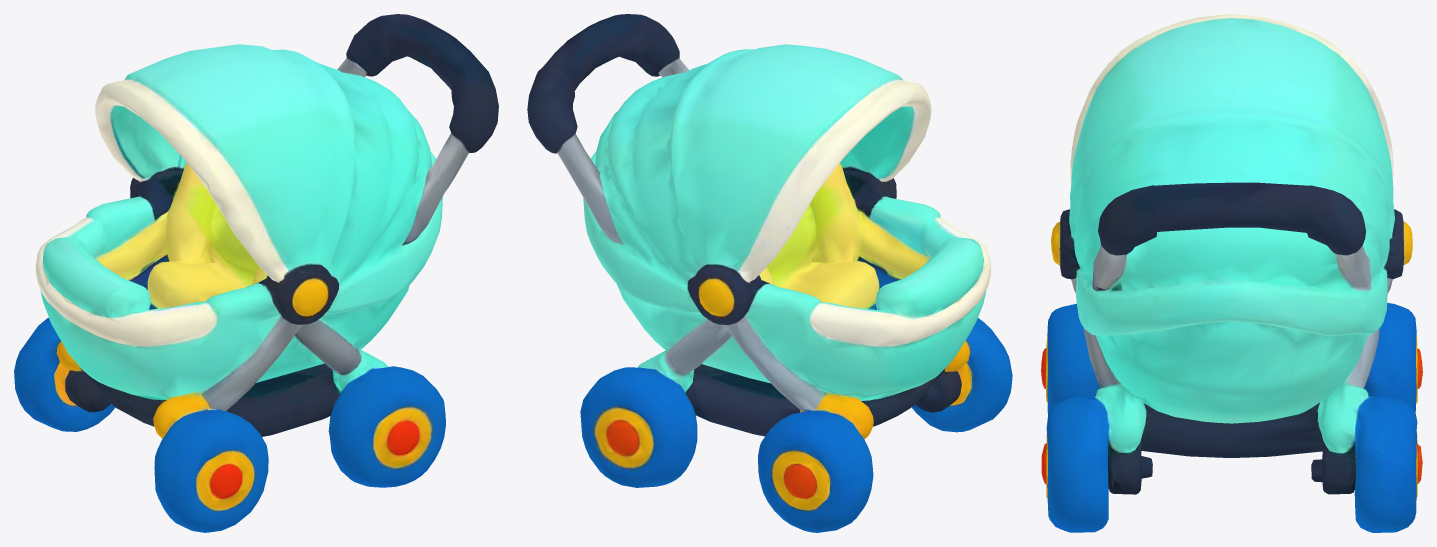
Rendered from stroller.glb.
The picture shows the model from 3 angles, left to right: view 1: azimuth 30°, elevation 25°; view 2: azimuth 150°, elevation 25°; view 3: azimuth 270°, elevation 25°; orthographic projection. The views are drawn at different scales.
Size of the model in its own units: 1.9 by 1.78 by 1.42.
1 material, 1 textured.
